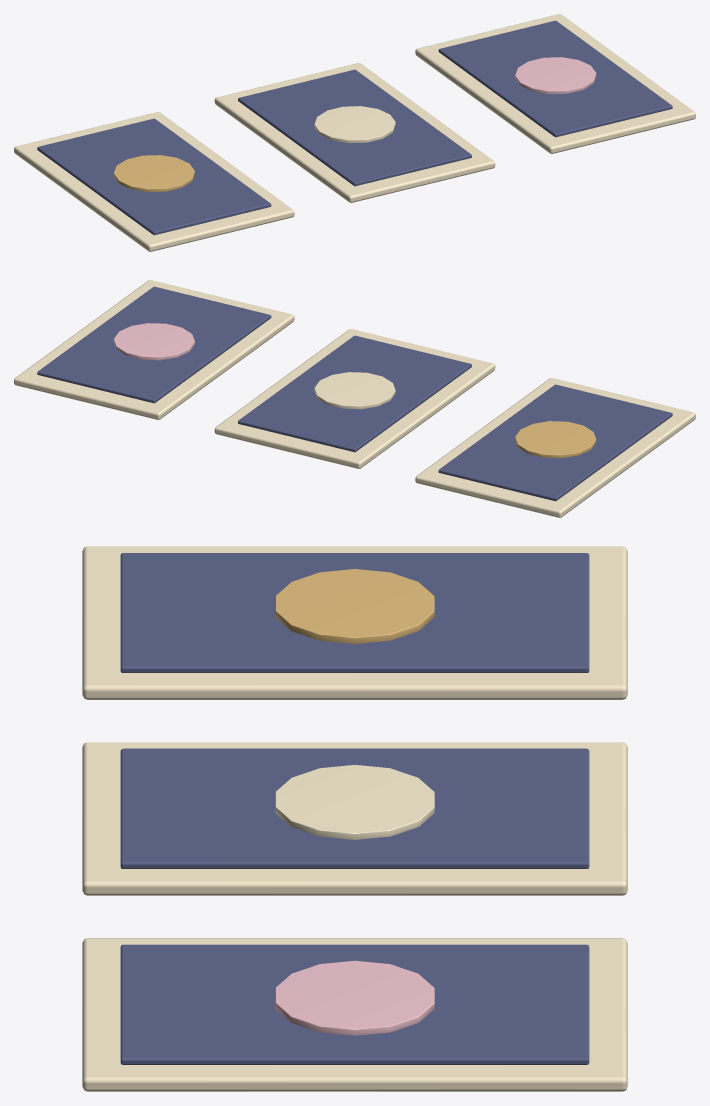
Rendered from Tarot_Spread.fbx.
3 renders of one model, top to bottom at view 1: azimuth 30°, elevation 25°; view 2: azimuth 150°, elevation 25°; view 3: azimuth 270°, elevation 25°, orthographic. The views are drawn at different scales.
Visible parts, largest first — view 1: Tarot_Spread_Mesh; view 2: Tarot_Spread_Mesh; view 3: Tarot_Spread_Mesh.
Part boxes in pixels (<box>): Tarot_Spread_Mesh: <box>14,14,695,251</box>; Tarot_Spread_Mesh: <box>14,280,695,517</box>; Tarot_Spread_Mesh: <box>82,546,627,1091</box>.
Bounding box in the file's own units: 0.232 × 0.00555 × 0.1.
